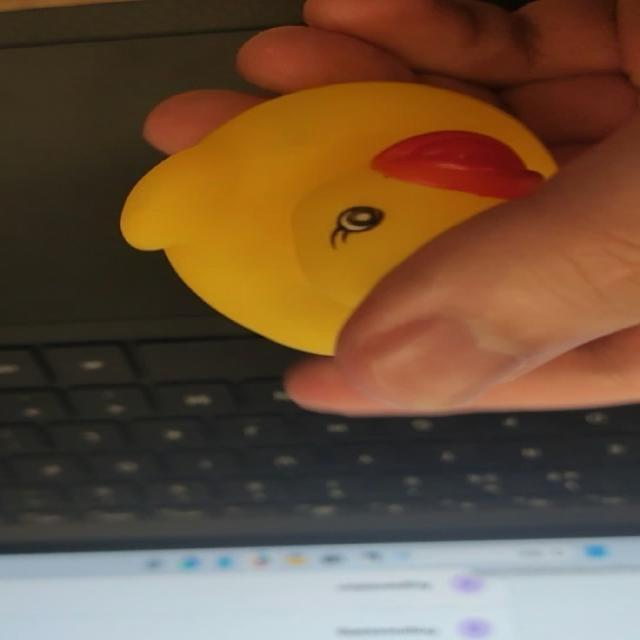rubber-duck: (120, 82, 555, 353)
